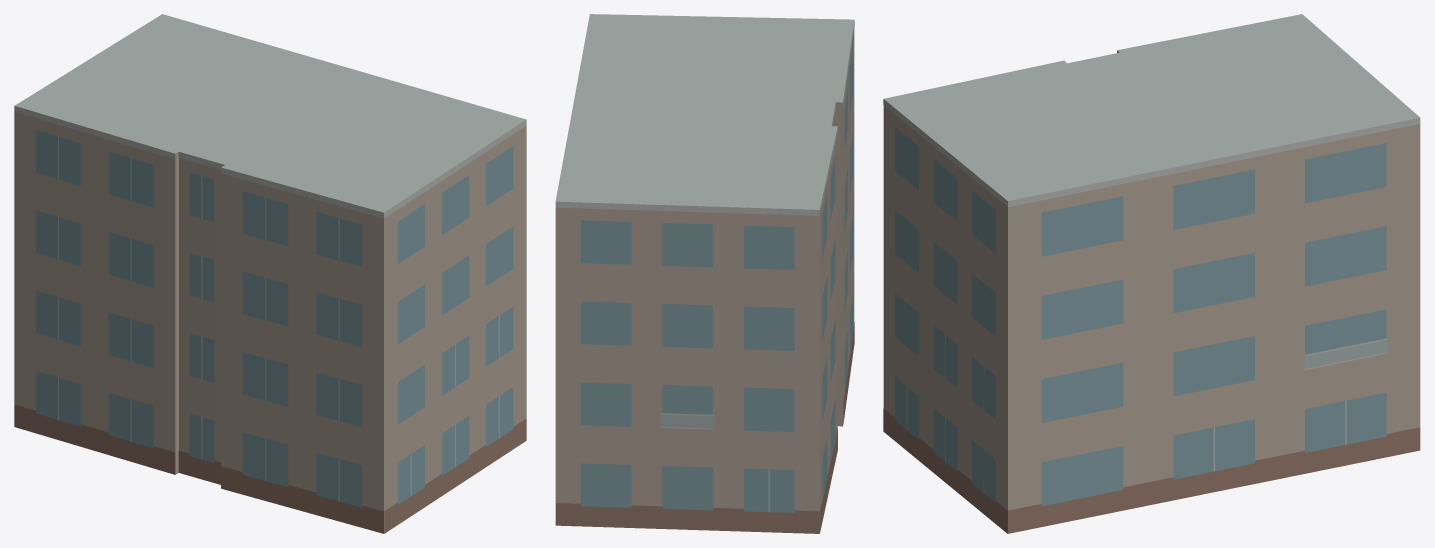
Rendered from survey-upis-32739765.glb.
The picture shows the model from 3 angles, left to right: view 1: azimuth 30°, elevation 25°; view 2: azimuth 150°, elevation 25°; view 3: azimuth 270°, elevation 25°; orthographic projection. The views are drawn at different scales.
Parts seen in each view (by area): view 1: survey-upis-32739765.tmp; view 2: survey-upis-32739765.tmp; view 3: survey-upis-32739765.tmp.
Part boxes in pixels (x1=…): survey-upis-32739765.tmp: x1=14, y1=14, x2=526, y2=533; survey-upis-32739765.tmp: x1=555, y1=14, x2=854, y2=533; survey-upis-32739765.tmp: x1=883, y1=14, x2=1420, y2=533.
Size of the model in its own units: 15.81 by 13.1 by 19.16.
